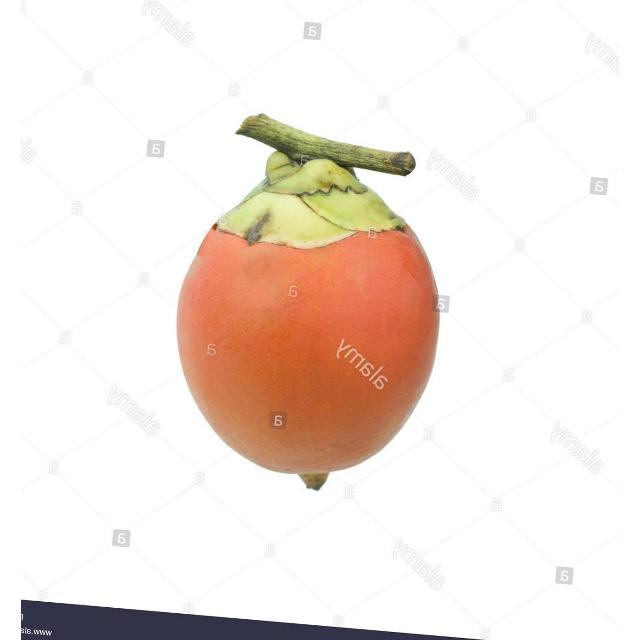good: (176, 154, 440, 490)
